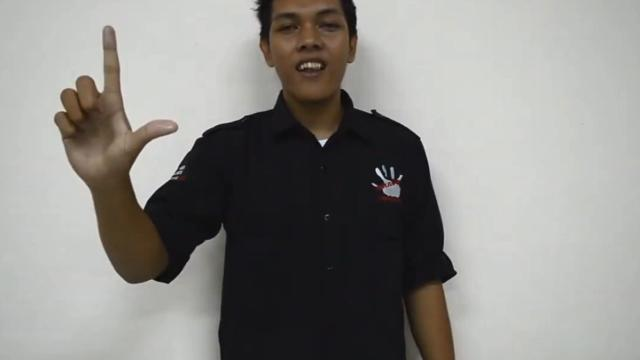L: (49, 24, 183, 178)
